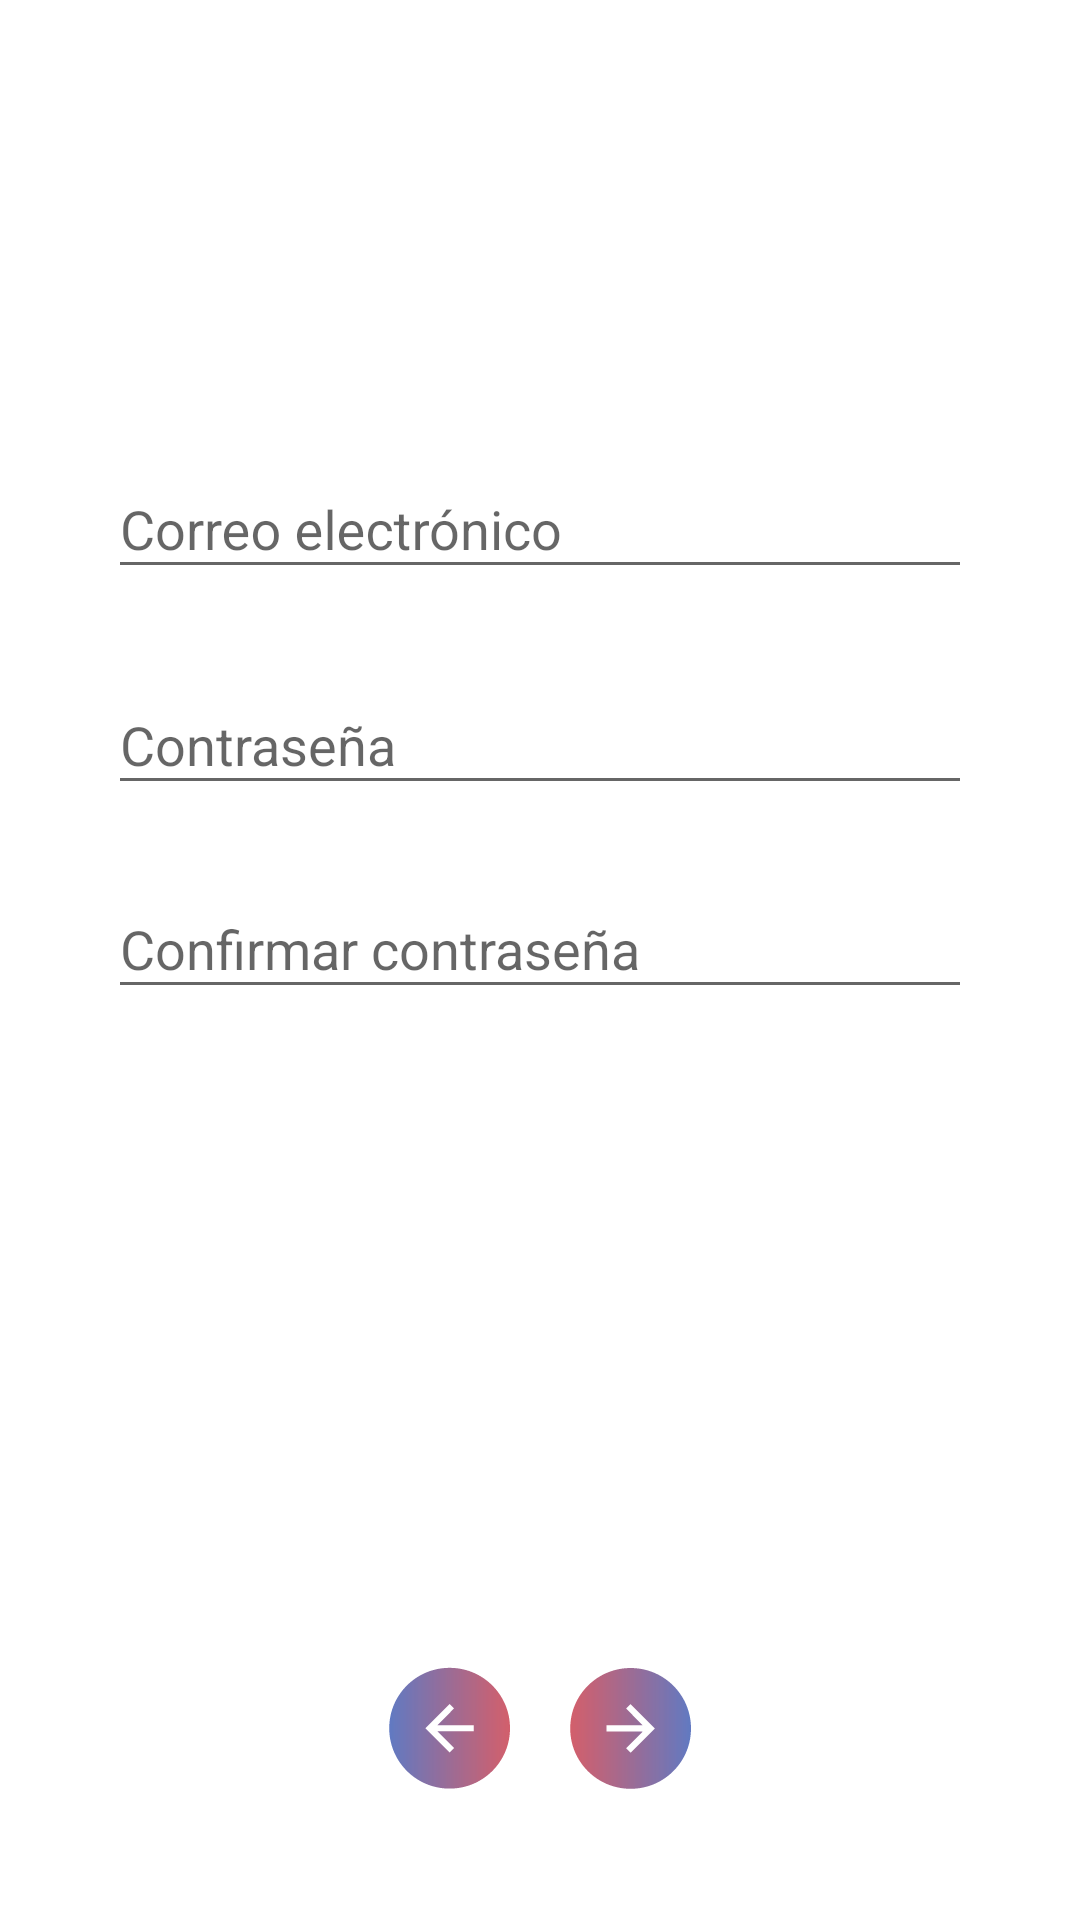

Icon bounding boxes for this 1080px×1920px phone screenshot, format box(x1, y1, x2, y2):
back shining: box(389, 1667, 510, 1789)
next: box(570, 1668, 691, 1789)
